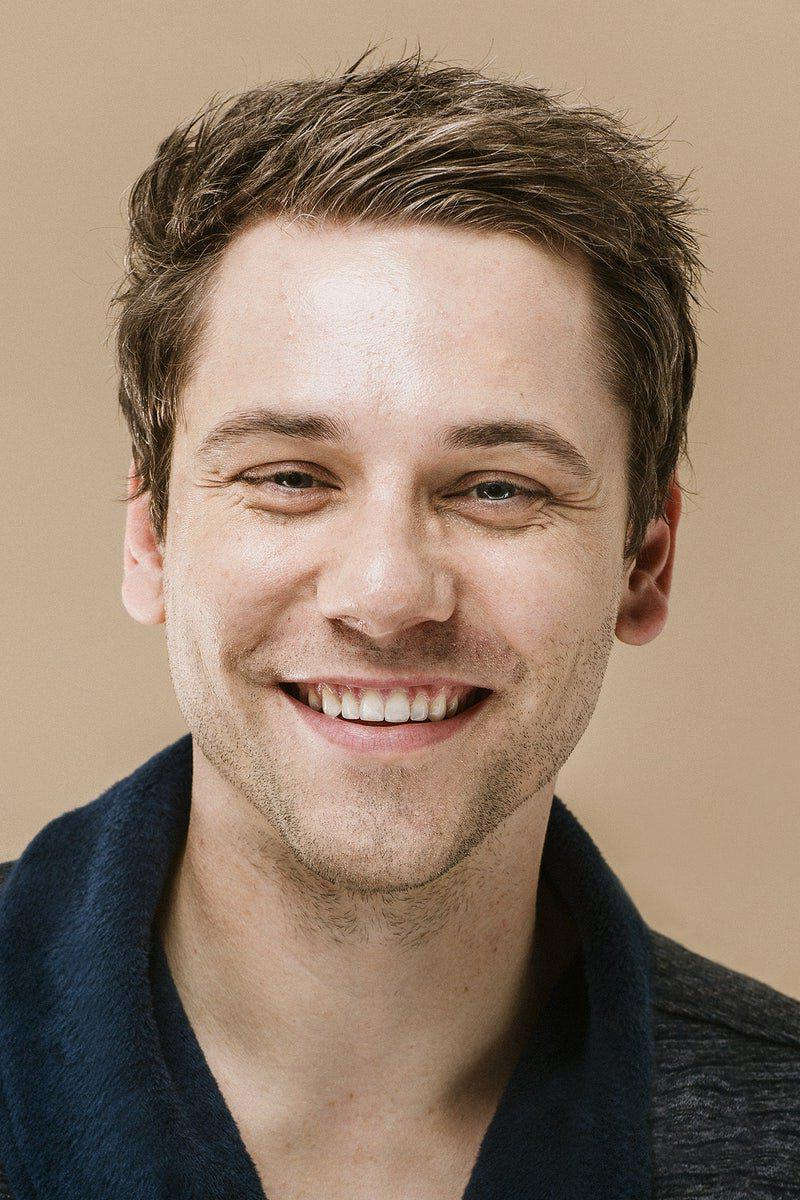Sober: (193, 241, 600, 867)
